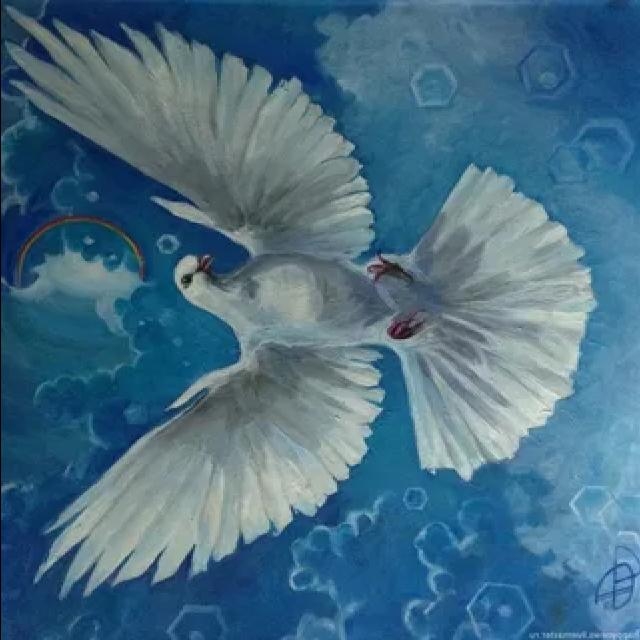pigeon: (0, 0, 598, 606)
